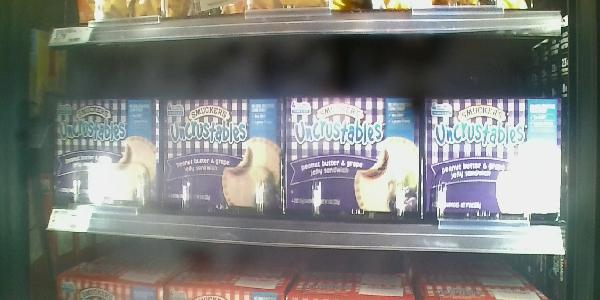icecream: (283, 93, 424, 222), (422, 94, 560, 224), (160, 94, 284, 216), (52, 98, 161, 212)
